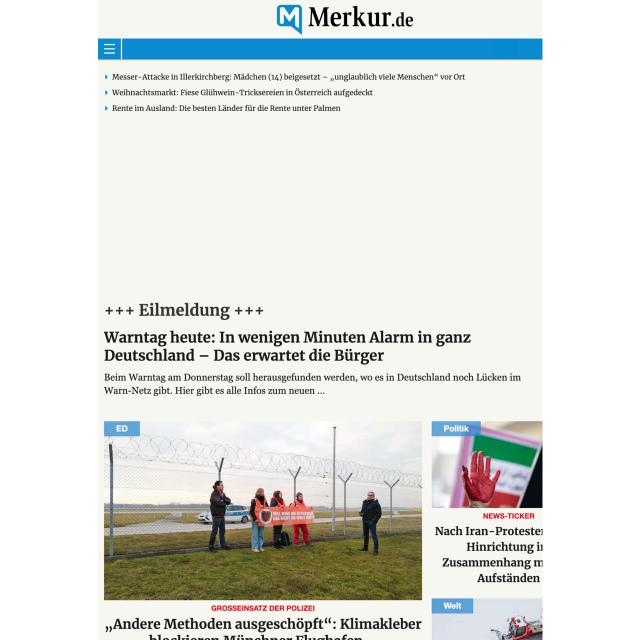QR code: (102, 71, 470, 114)
RadioButton: (432, 422, 481, 436), (432, 598, 473, 614), (104, 420, 140, 436)
bag: (98, 0, 542, 60)
carousel: (104, 42, 116, 55)
copy: (104, 420, 422, 600)
date picker: (274, 4, 416, 34)
decoration: (98, 38, 121, 60)
image: (103, 329, 476, 365)
